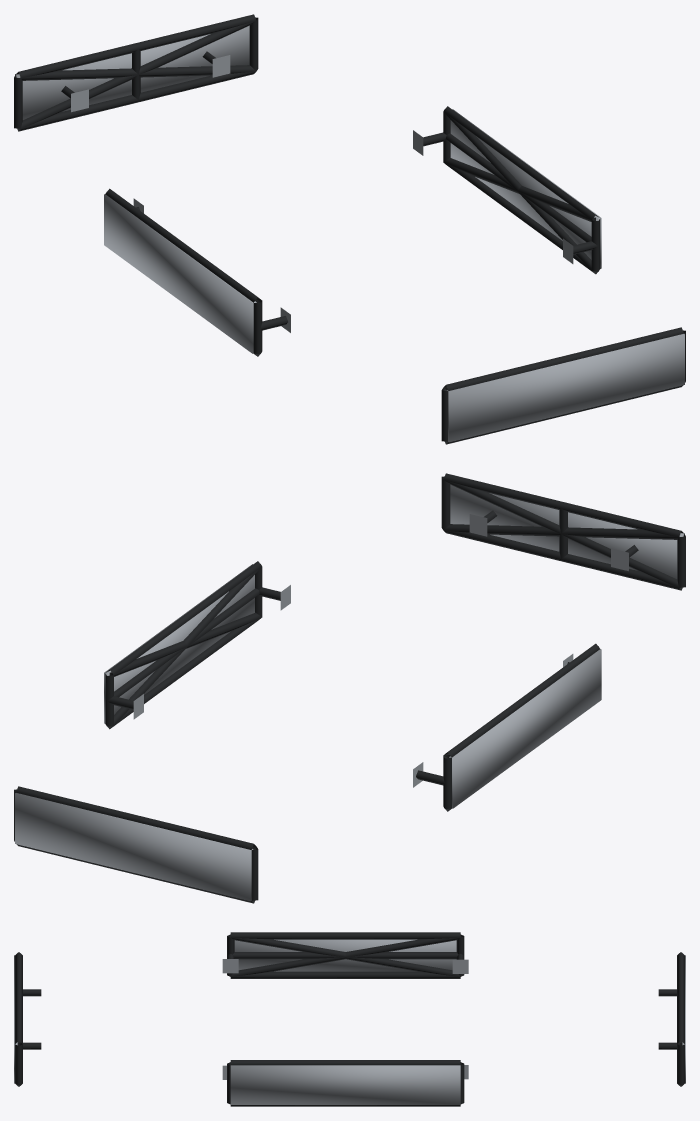
The model's file is taurenza_pinaculo_protecao.glb.
The picture shows the model from 3 angles, top to bottom: view 1: azimuth 30°, elevation 25°; view 2: azimuth 150°, elevation 25°; view 3: azimuth 270°, elevation 25°; orthographic projection. The views are drawn at different scales.
Parts seen in each view (by area): view 1: Protection_front_Level3_Details, Protection_left_Level3_Details, Protection_rear_Level1_Details, Protection_rear_Level3_Details, Protection_right_Level1_Details, Protection_rear_Level2_Details, Protection_right_Level2_Details, Protection_right_Level3_Details, Protection_front_Level1_Details, Protection_left_Level1_Details; view 2: Protection_rear_Level3_Details, Protection_left_Level3_Details, Protection_front_Level1_Details, Protection_front_Level3_Details, Protection_right_Level1_Details, Protection_front_Level2_Details, Protection_right_Level2_Details, Protection_right_Level3_Details, Protection_rear_Level1_Details, Protection_left_Level1_Details; view 3: Protection_right_Level3_Details, Protection_left_Level2_Details, Protection_left_Level1_Details, Protection_left_Level3_Details, Protection_right_Level1_Details, Protection_rear_Level1_Details, Protection_front_Level1_Details.
Boxes of the visible parts, x1,y1,x2,y2 form: Protection_front_Level3_Details: (446, 334, 684, 442); Protection_left_Level3_Details: (104, 194, 256, 353); Protection_rear_Level1_Details: (14, 14, 258, 131); Protection_rear_Level3_Details: (15, 25, 249, 119); Protection_right_Level1_Details: (413, 106, 600, 274); Protection_rear_Level2_Details: (16, 21, 256, 130); Protection_right_Level2_Details: (443, 112, 599, 273); Protection_right_Level3_Details: (450, 109, 601, 268); Protection_front_Level1_Details: (441, 327, 685, 444); Protection_left_Level1_Details: (105, 188, 290, 356); Protection_rear_Level3_Details: (15, 793, 253, 901); Protection_left_Level3_Details: (449, 649, 601, 808); Protection_front_Level1_Details: (441, 473, 685, 590); Protection_front_Level3_Details: (450, 484, 684, 578); Protection_right_Level1_Details: (105, 561, 290, 729); Protection_front_Level2_Details: (443, 480, 683, 589); Protection_right_Level2_Details: (106, 567, 261, 728); Protection_right_Level3_Details: (104, 564, 254, 723); Protection_rear_Level1_Details: (14, 786, 258, 903); Protection_left_Level1_Details: (413, 643, 599, 811); Protection_right_Level3_Details: (230, 1065, 460, 1104); Protection_left_Level2_Details: (230, 936, 460, 976); Protection_left_Level1_Details: (222, 932, 468, 978); Protection_left_Level3_Details: (234, 939, 456, 971); Protection_right_Level1_Details: (222, 1060, 468, 1106); Protection_rear_Level1_Details: (658, 952, 684, 1086); Protection_front_Level1_Details: (15, 952, 41, 1086).
Size of the model in its own units: 2.16 by 0.354 by 4.65.
Materials: 1 (1 with a texture image).
